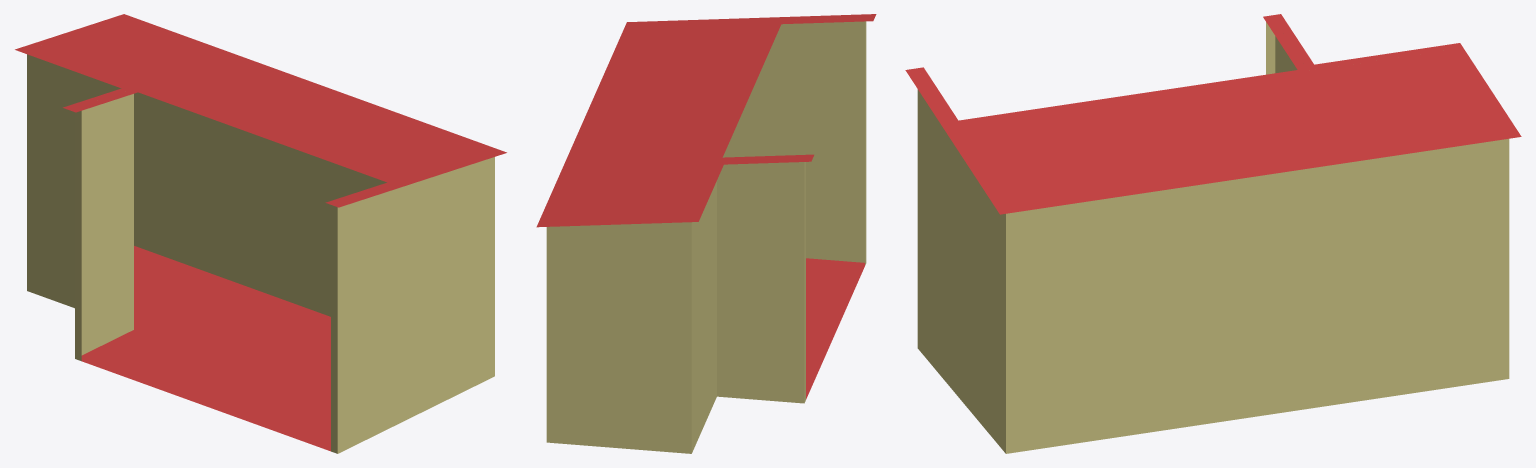
The picture shows the model from 3 angles, left to right: view 1: azimuth 30°, elevation 25°; view 2: azimuth 150°, elevation 25°; view 3: azimuth 270°, elevation 25°; orthographic projection. The views are drawn at different scales.
Size of the model in its own units: 10.31 by 15.85 by 7.82.
